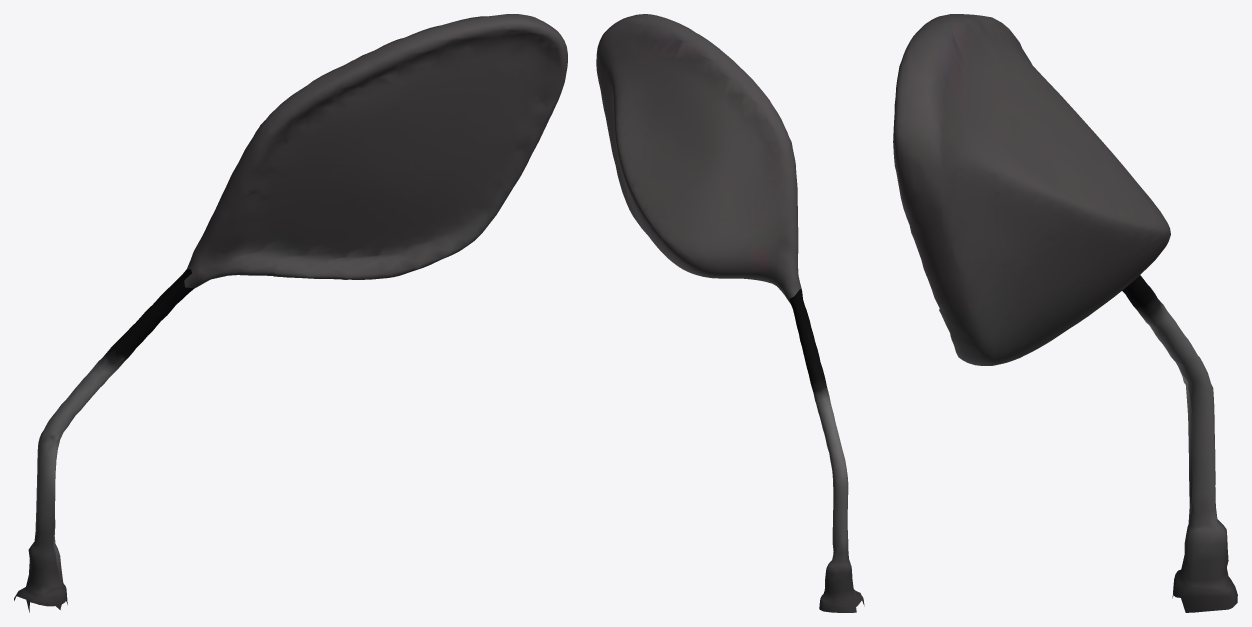
The model's file is blt150_02.obj.
The picture shows the model from 3 angles, left to right: view 1: azimuth 30°, elevation 25°; view 2: azimuth 150°, elevation 25°; view 3: azimuth 270°, elevation 25°; orthographic projection. The views are drawn at different scales.
Parts seen in each view (by area): view 1: blt150_main.001_tripo_node_36cdd4a4-d861-4834-acdf-ce8a7d82f620.; view 2: blt150_main.001_tripo_node_36cdd4a4-d861-4834-acdf-ce8a7d82f620.; view 3: blt150_main.001_tripo_node_36cdd4a4-d861-4834-acdf-ce8a7d82f620..
Boxes of the visible parts, x1=… form: blt150_main.001_tripo_node_36cdd4a4-d861-4834-acdf-ce8a7d82f620.: x1=14, y1=14, x2=567, y2=612; blt150_main.001_tripo_node_36cdd4a4-d861-4834-acdf-ce8a7d82f620.: x1=596, y1=14, x2=864, y2=612; blt150_main.001_tripo_node_36cdd4a4-d861-4834-acdf-ce8a7d82f620.: x1=893, y1=14, x2=1237, y2=612.
Size of the model in its own units: 0.9975 by 1.27 by 0.5188.
1 material, 1 textured.
